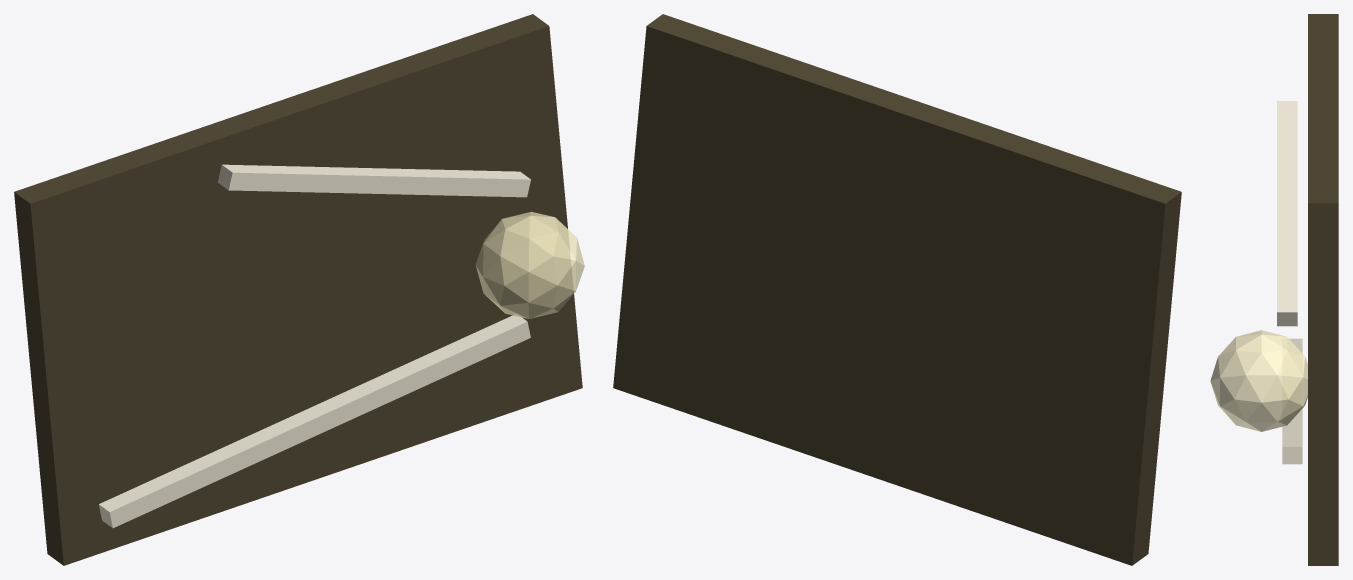
File: 02_world_prop_polish.glb
3 views of the same model, side by side, from view 1: azimuth 30°, elevation 25°; view 2: azimuth 150°, elevation 25°; view 3: azimuth 270°, elevation 25° (orthographic). The views are drawn at different scales.
Visible parts, largest first — view 1: object_overlay_plate, edge_wear_a, glow_socket, edge_wear_b; view 2: object_overlay_plate; view 3: object_overlay_plate, glow_socket, edge_wear_b, edge_wear_a.
Part boxes in pixels (<box>): object_overlay_plate: <box>14,14,582,565</box>; edge_wear_a: <box>99,314,530,528</box>; glow_socket: <box>475,211,584,318</box>; edge_wear_b: <box>217,164,530,197</box>; object_overlay_plate: <box>613,14,1181,565</box>; object_overlay_plate: <box>1308,14,1338,565</box>; glow_socket: <box>1210,330,1307,431</box>; edge_wear_b: <box>1277,101,1297,326</box>; edge_wear_a: <box>1282,338,1302,464</box>.
Size of the model in its own units: 1.17 by 0.85 by 0.25.
